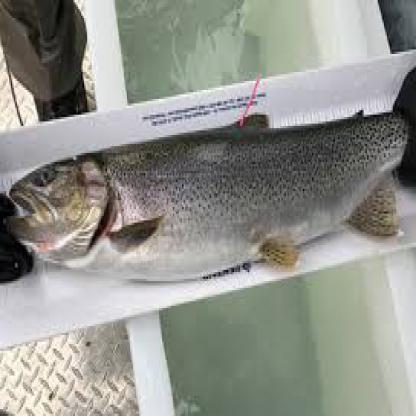fish: (7, 70, 414, 284)
